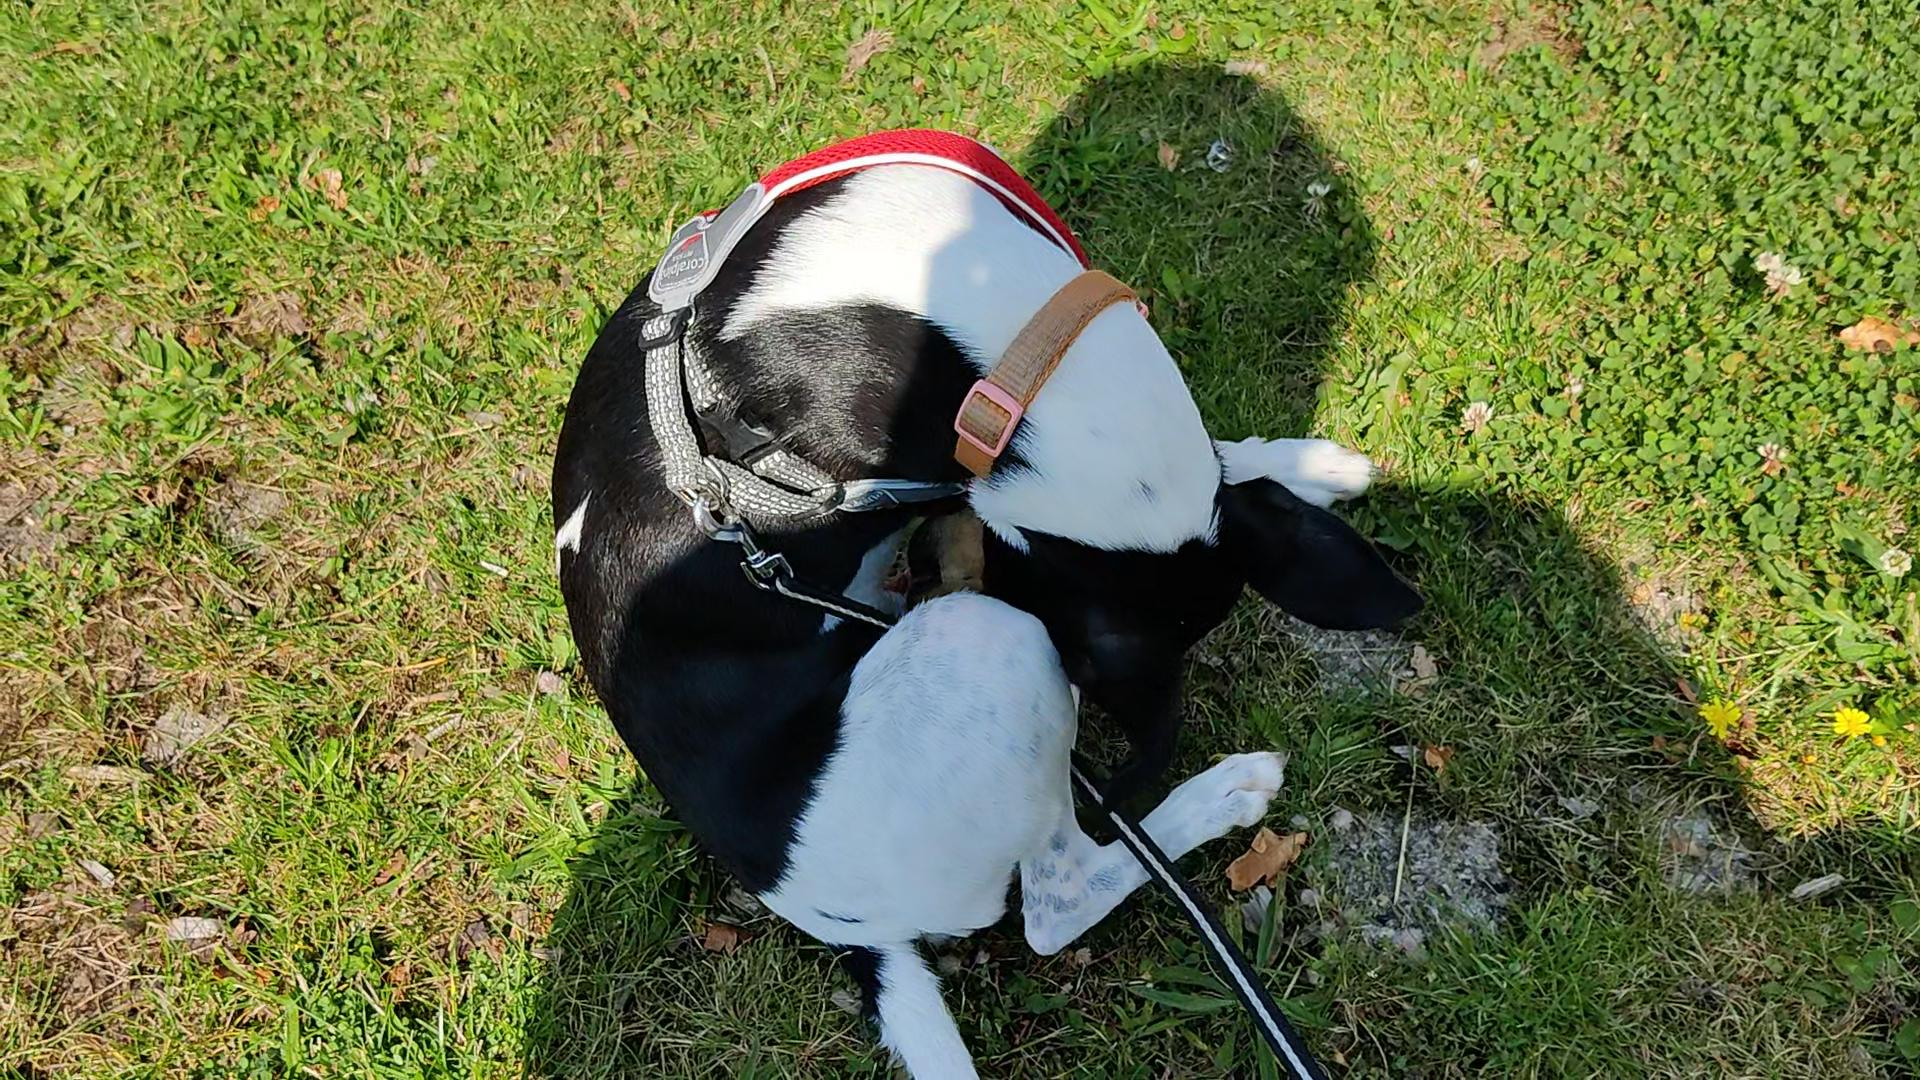Dog: (549, 120, 1431, 1079)
